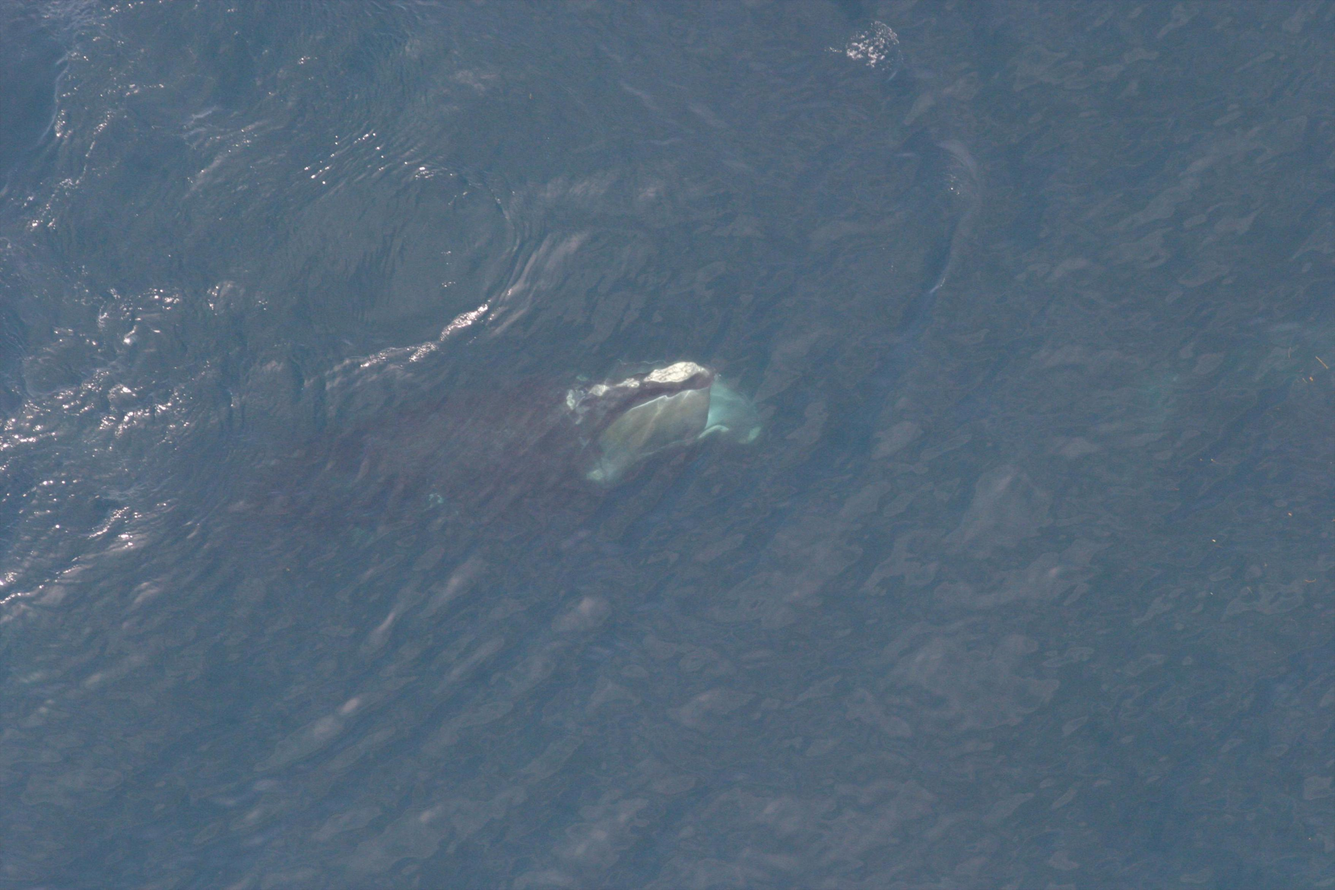whale: (216, 342, 768, 545)
